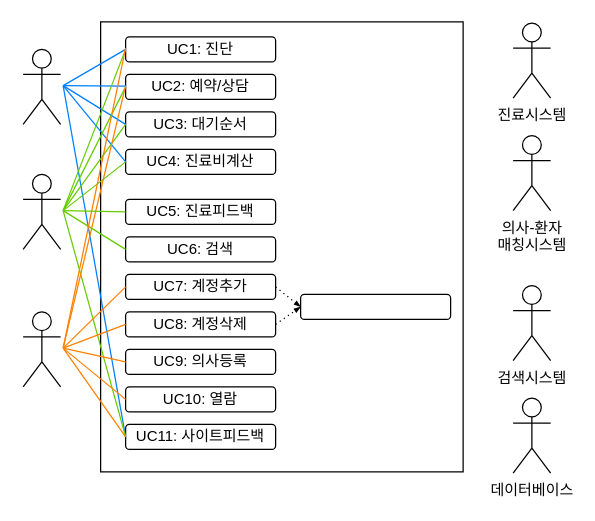
Some shapes in this 595 by 521 pixel diagram are drawn without their labels. The shapes that lost their labels are listed below. From the top down, each one's centre as x and y in pixels, then its label:
point (41, 86): 의사
point (41, 211): 환자
point (375, 306): UC12: 로그인
point (41, 349): 관리자
